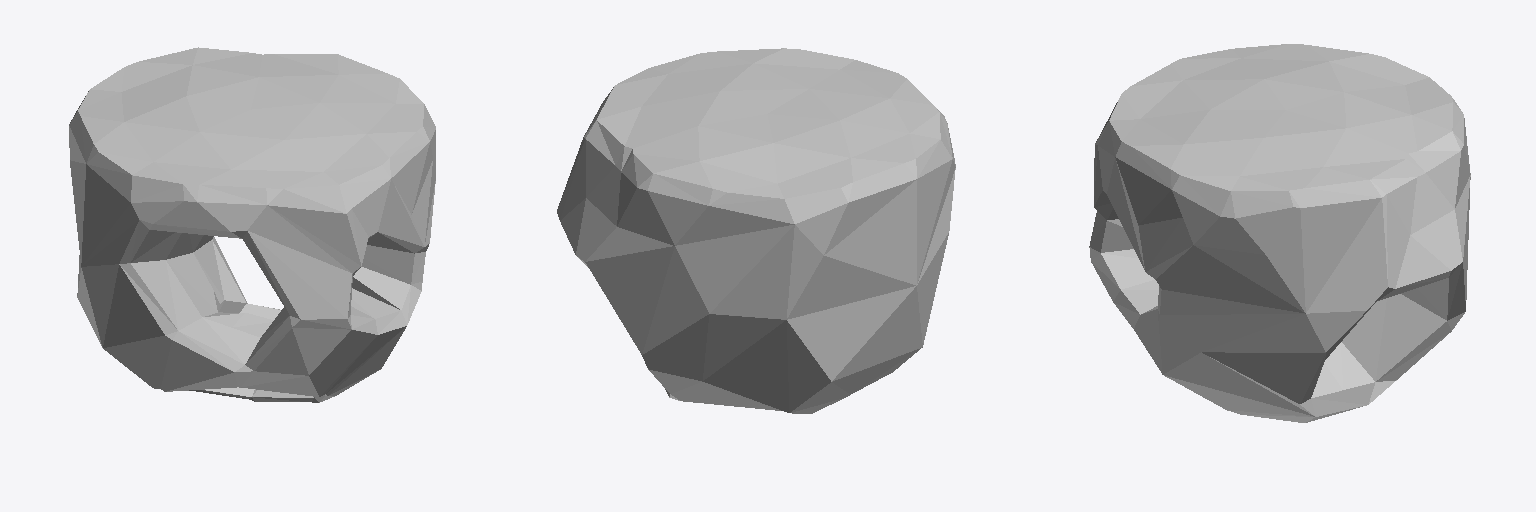
File: island1.obj
3 renders of one model, left to right at view 1: azimuth 30°, elevation 25°; view 2: azimuth 150°, elevation 25°; view 3: azimuth 270°, elevation 25°, orthographic.
Parts seen in each view (by area): view 1: F3:GeoDome5; view 2: F3:GeoDome5; view 3: F3:GeoDome5.
Boxes of the visible parts, box(x1,y1,x2,y2) form: F3:GeoDome5: box(69, 47, 435, 402); F3:GeoDome5: box(557, 48, 955, 413); F3:GeoDome5: box(1089, 44, 1470, 422).
Size of the model in its own units: 1.99 by 1.71 by 2.03.